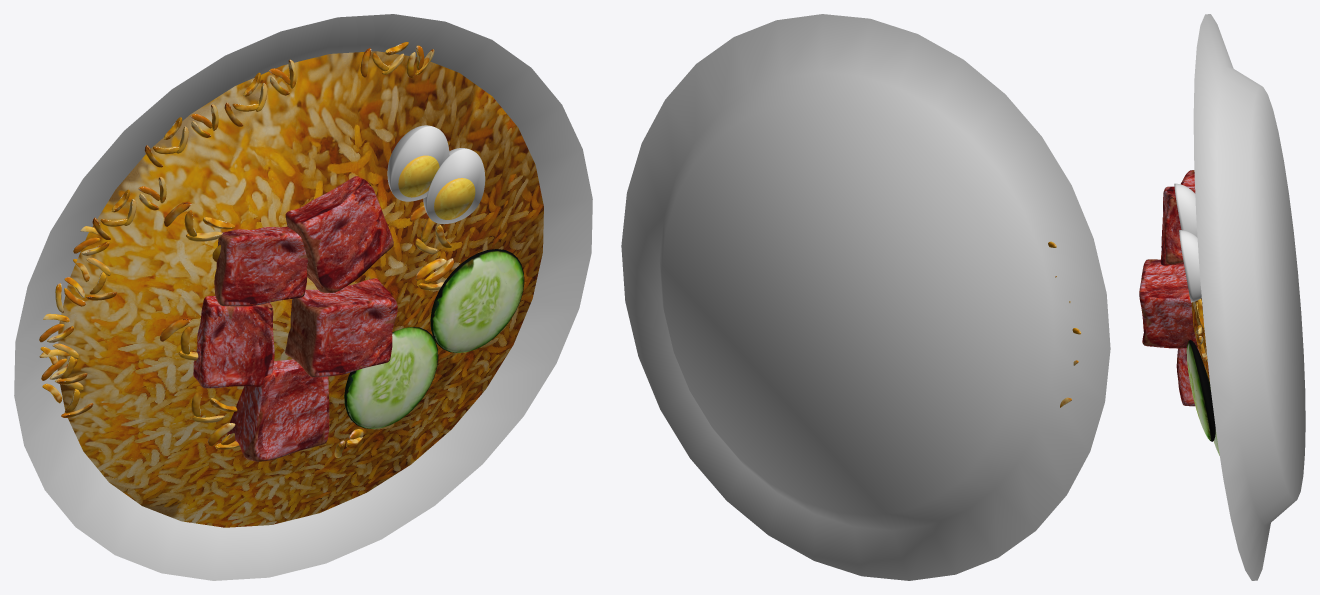
The model's file is Regbeefmandi-v6.glb.
3 renders of one model, left to right at view 1: azimuth 30°, elevation 25°; view 2: azimuth 150°, elevation 25°; view 3: azimuth 270°, elevation 25°, orthographic. The views are drawn at different scales.
Parts seen in each view (by area): view 1: Cone, Circle.002, Cube.002, Cube.004, Cube.005, Sphere.002, Cube.001, Cube.003, Sphere.001, Sphere.003, Sphere, Plane.029 (+9 smaller); view 2: Circle.002; view 3: Circle.002, Cube.002, Sphere.002, Cube.004, Sphere.003, Sphere, Cube.005, Cone, Plane.029.
Boxes of the visible parts, x1=… form: Cone: x1=57, y1=51, x2=543, y2=527; Circle.002: x1=14, y1=14, x2=592, y2=580; Cube.002: x1=285, y1=278, x2=397, y2=377; Cube.004: x1=285, y1=176, x2=393, y2=292; Cube.005: x1=227, y1=359, x2=329, y2=461; Sphere.002: x1=430, y1=249, x2=524, y2=352; Cube.001: x1=214, y1=226, x2=307, y2=306; Cube.003: x1=193, y1=296, x2=274, y2=388; Sphere.001: x1=344, y1=327, x2=438, y2=428; Sphere.003: x1=423, y1=148, x2=485, y2=224; Sphere: x1=387, y1=125, x2=449, y2=201; Plane.029: x1=410, y1=205, x2=453, y2=290; Circle.002: x1=621, y1=14, x2=1110, y2=580; Circle.002: x1=1193, y1=14, x2=1305, y2=580; Cube.002: x1=1139, y1=259, x2=1197, y2=348; Sphere.002: x1=1186, y1=340, x2=1215, y2=441; Cube.004: x1=1160, y1=186, x2=1195, y2=265; Sphere.003: x1=1179, y1=230, x2=1201, y2=302; Sphere: x1=1174, y1=183, x2=1197, y2=237; Cube.005: x1=1176, y1=347, x2=1199, y2=406; Cone: x1=1191, y1=298, x2=1209, y2=382; Plane.029: x1=1196, y1=299, x2=1207, y2=360.
Bounding box in the file's own units: 8.73 × 8.68 × 2.55.
26 materials, 23 textured.
